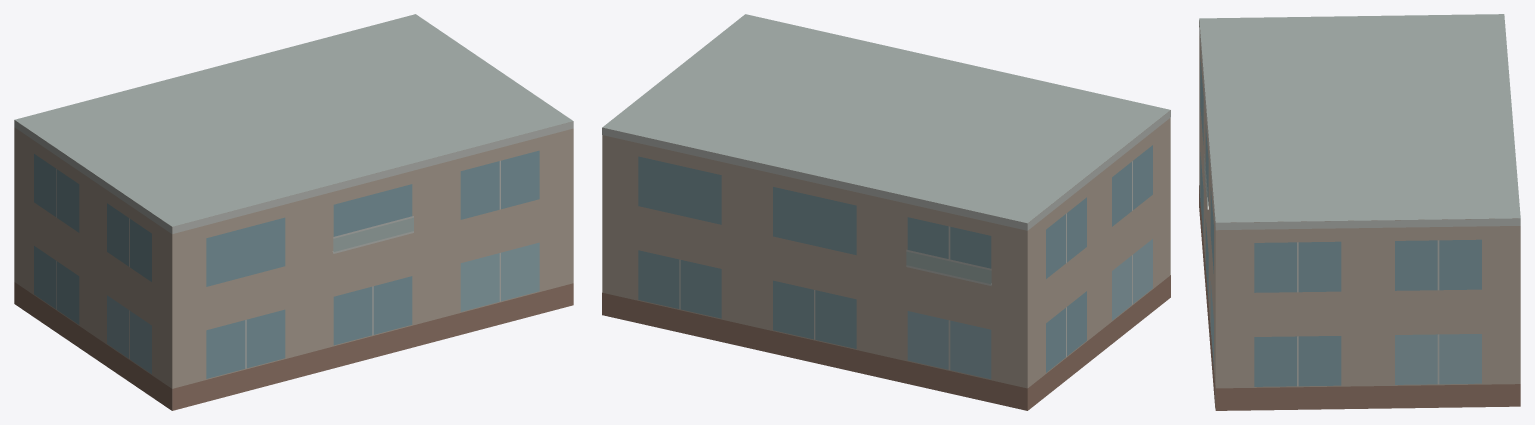
File: survey-upis-32718332.glb
3 renders of one model, left to right at view 1: azimuth 30°, elevation 25°; view 2: azimuth 150°, elevation 25°; view 3: azimuth 270°, elevation 25°, orthographic. The views are drawn at different scales.
Visible parts, largest first — view 1: survey-upis-32718332.tmp; view 2: survey-upis-32718332.tmp; view 3: survey-upis-32718332.tmp.
Boxes of the visible parts, left/top/right/bottom form: survey-upis-32718332.tmp: left=14, top=14, right=573, bottom=410; survey-upis-32718332.tmp: left=602, top=14, right=1170, bottom=410; survey-upis-32718332.tmp: left=1199, top=14, right=1520, bottom=410.
Size of the model in its own units: 14.51 by 6.1 by 9.46.
